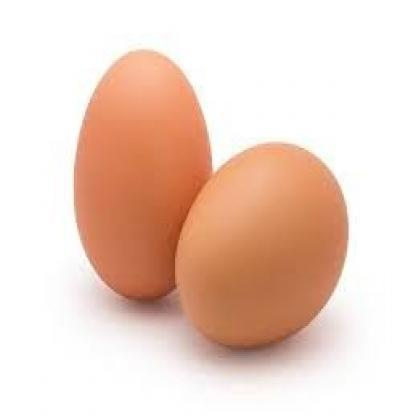egg: (172, 138, 354, 353), (72, 46, 216, 308)
